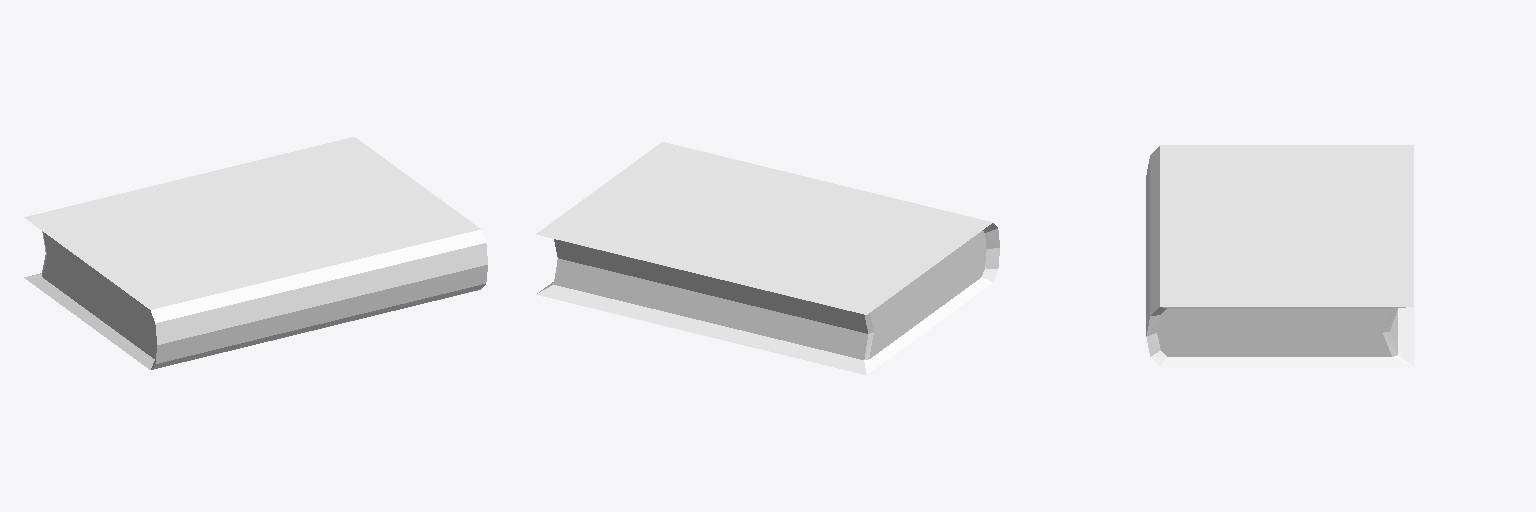
File: Book2.obj
3 renders of one model, left to right at view 1: azimuth 30°, elevation 25°; view 2: azimuth 150°, elevation 25°; view 3: azimuth 270°, elevation 25°, orthographic.
Visible parts, largest first — view 1: pCube1_pCube1; view 2: pCube1_pCube1; view 3: pCube1_pCube1.
Part boxes in pixels (x1,y1,x2,y2): pCube1_pCube1: (24, 137, 487, 369); pCube1_pCube1: (536, 142, 999, 374); pCube1_pCube1: (1146, 145, 1413, 366).
Size of the model in its own units: 9.6 by 1.67 by 6.71.